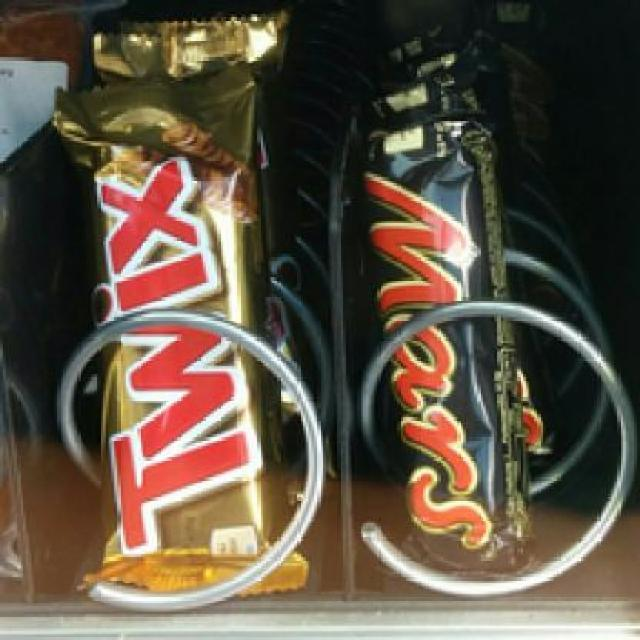Chocolate: (42, 66, 308, 592), (363, 95, 531, 574)
